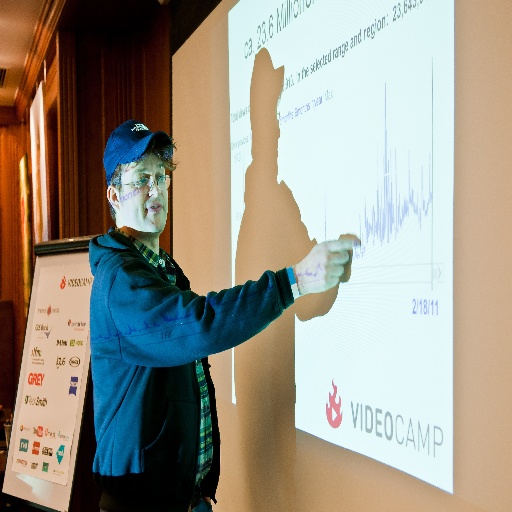hand: (288, 230, 362, 303)
